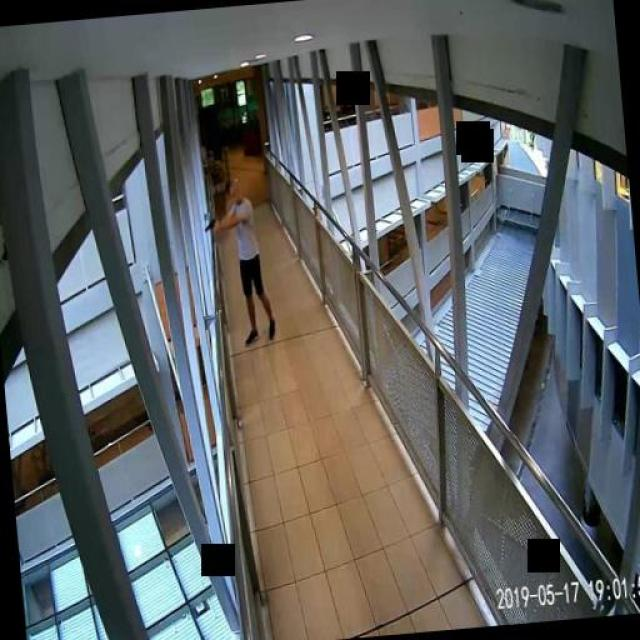gun: (202, 215, 218, 231)
